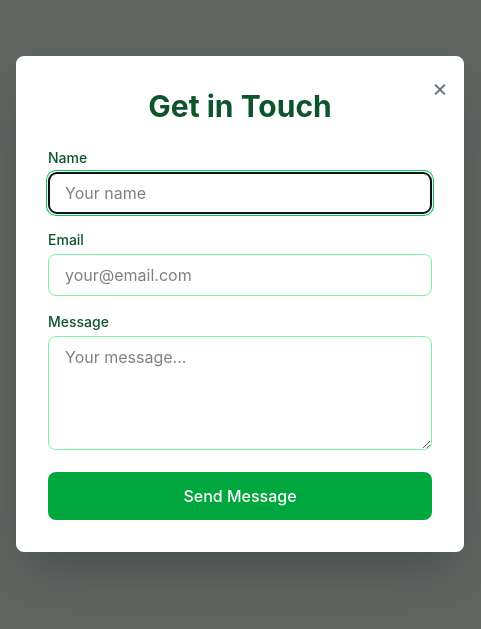
Test case: ContactModal › submits validated form data and shows success feedback
Type "Farmer Jane" into the field labelled "Name".
click(240, 193); type("Farmer Jane")  # box [48,172,432,214]
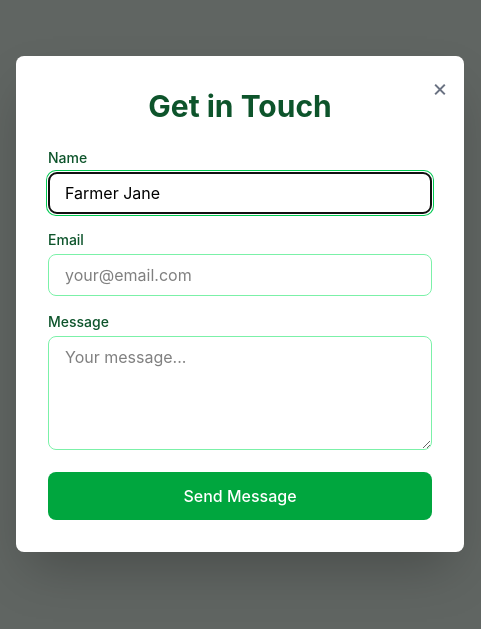
Type "jane@example.com" into the field labelled "Email".
click(240, 275); type("jane@example.com")  # box [48,254,432,296]
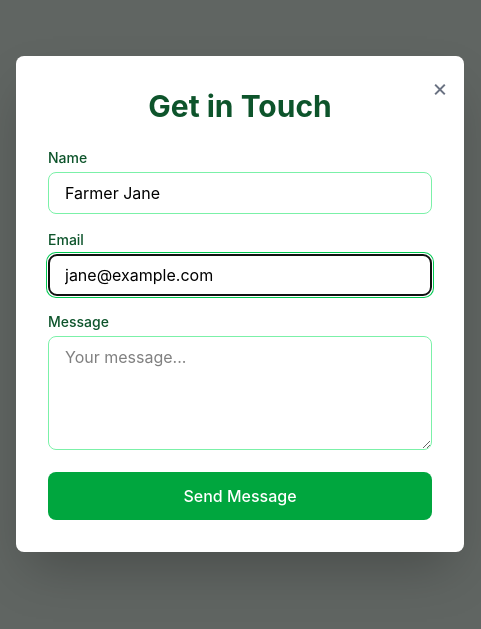
Type "I would like to learn more about your farm products and updates." into the text box labelled "Message".
click(240, 393); type("I would like to learn more about your farm products and updates.")  # box [48,336,432,450]
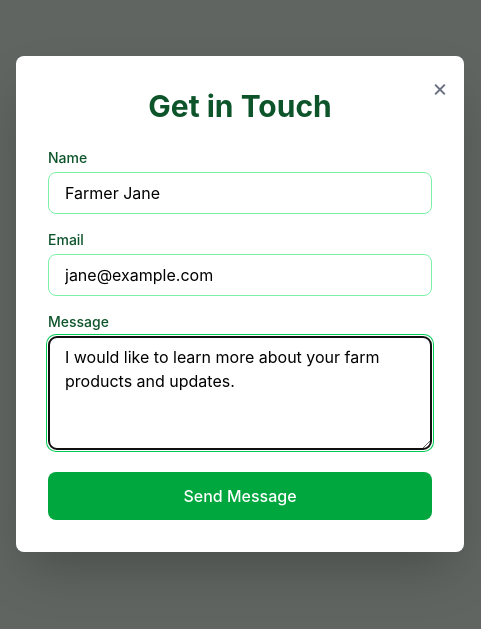
Click the button "Send Message".
click(240, 496)  # box [48,472,432,520]
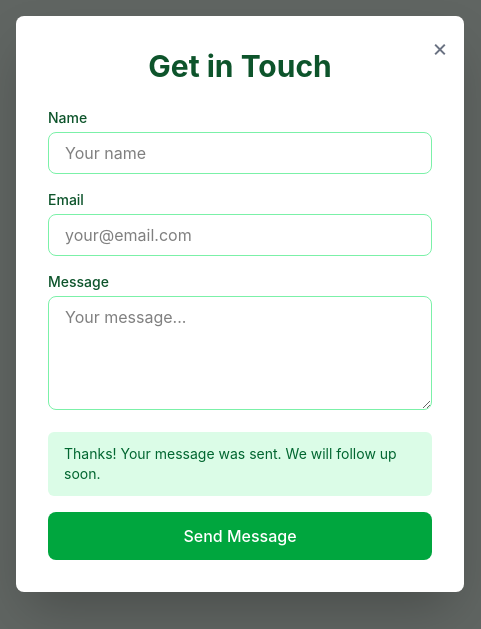
Expected: the text "Thanks! Your message was sent. We will follow up soon." is shown, [48,432,432,496]
